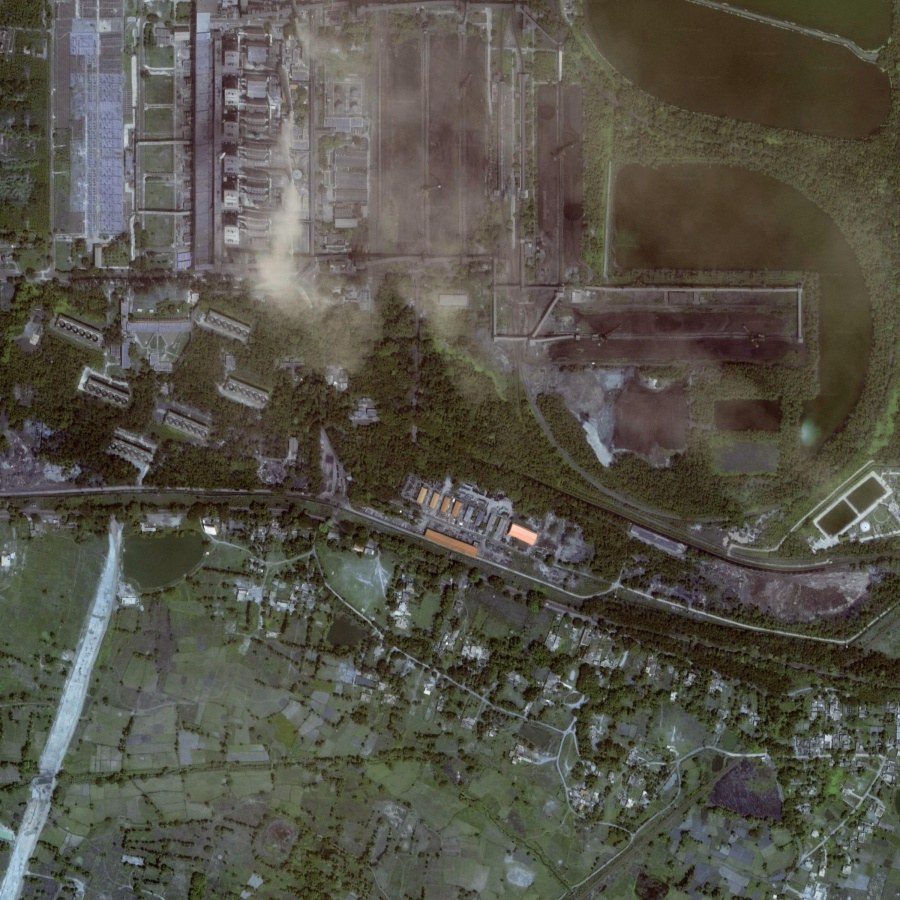PowerPlant: (265, 3, 596, 324), (529, 286, 813, 472)
